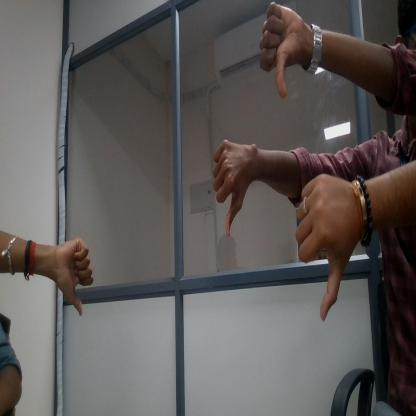Thumbs Down: (302, 180, 353, 327), (208, 135, 258, 234), (52, 234, 96, 340), (258, 3, 300, 102)
